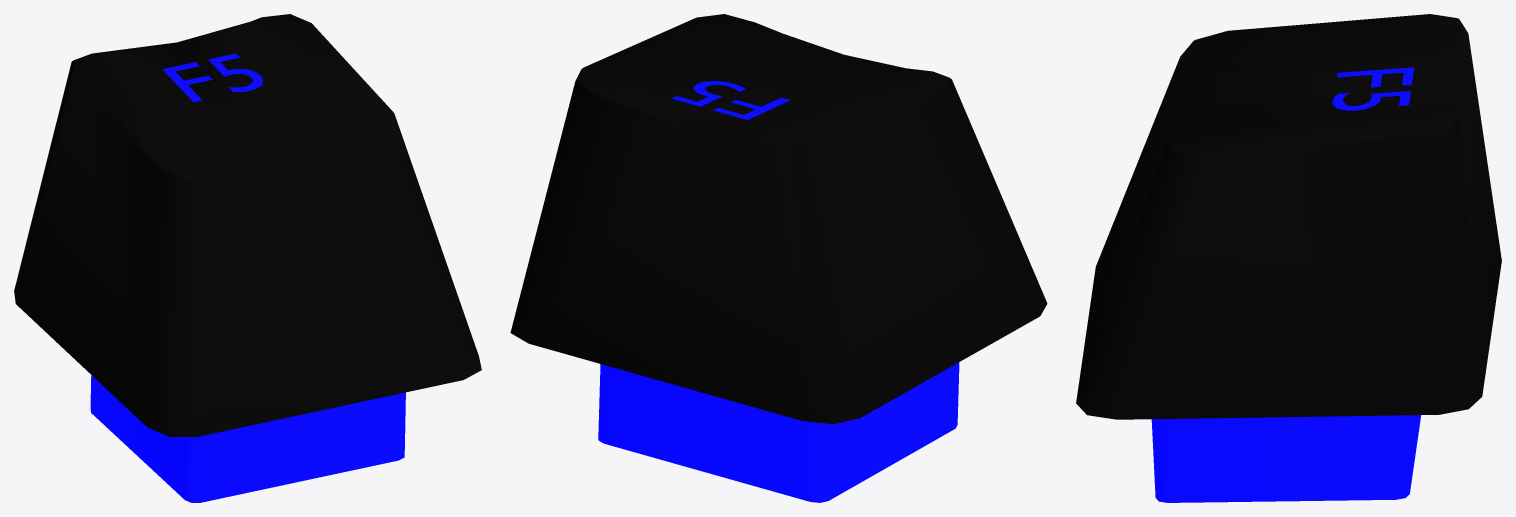
Rendered from f5-DFc2_BS_.glb.
3 views of the same model, side by side, from view 1: azimuth 30°, elevation 25°; view 2: azimuth 150°, elevation 25°; view 3: azimuth 270°, elevation 25° (orthographic). The views are drawn at different scales.
Parts seen in each view (by area): view 1: StudyShelf_1141; view 2: StudyShelf_1141; view 3: StudyShelf_1141.
Boxes of the visible parts, x1,y1,x2,y2 form: StudyShelf_1141: (14,14,481,502); StudyShelf_1141: (510,14,1047,502); StudyShelf_1141: (1076,14,1501,502).
Size of the model in its own units: 4.35 by 4.28 by 4.35.
